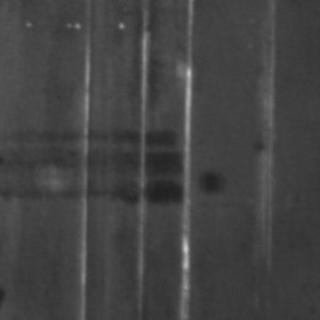inclusion: (1, 122, 188, 206)
scratches: (172, 5, 198, 317), (70, 3, 94, 316), (126, 2, 152, 266), (256, 15, 282, 267)
